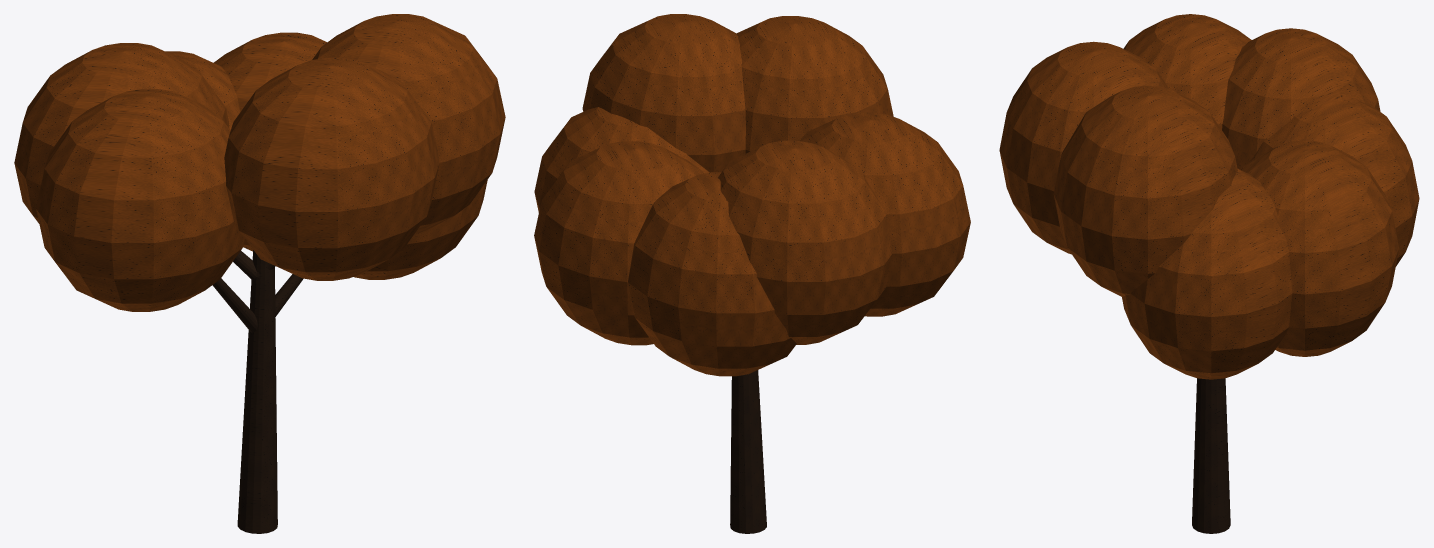
Rendered from PROP-4DAAAEB662D6_lod0.glb.
The picture shows the model from 3 angles, left to right: view 1: azimuth 30°, elevation 25°; view 2: azimuth 150°, elevation 25°; view 3: azimuth 270°, elevation 25°; orthographic projection. The views are drawn at different scales.
Parts seen in each view (by area): view 1: leaf_crown.088, trunk.081, branch.052; view 2: leaf_crown.088, trunk.081; view 3: leaf_crown.088, trunk.081.
Part boxes in pixels (x1,y1,x2,y2): leaf_crown.088: (14,14,505,311); trunk.081: (237,250,277,533); branch.052: (212,251,303,332); leaf_crown.088: (534,14,970,376); trunk.081: (730,370,766,533); leaf_crown.088: (999,14,1419,379); trunk.081: (1192,378,1230,533).
Bounding box in the file's own units: 6.03 × 6.52 × 5.18.
Materials: 2 (2 with a texture image).
